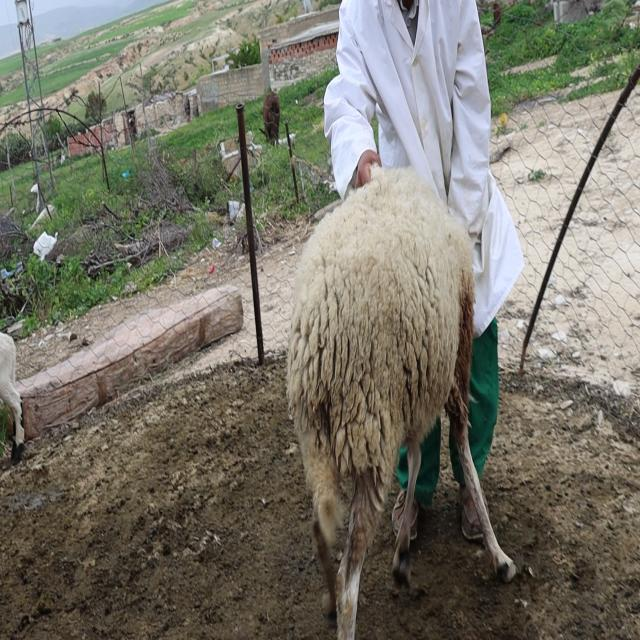Score_3: (287, 169, 517, 639)
